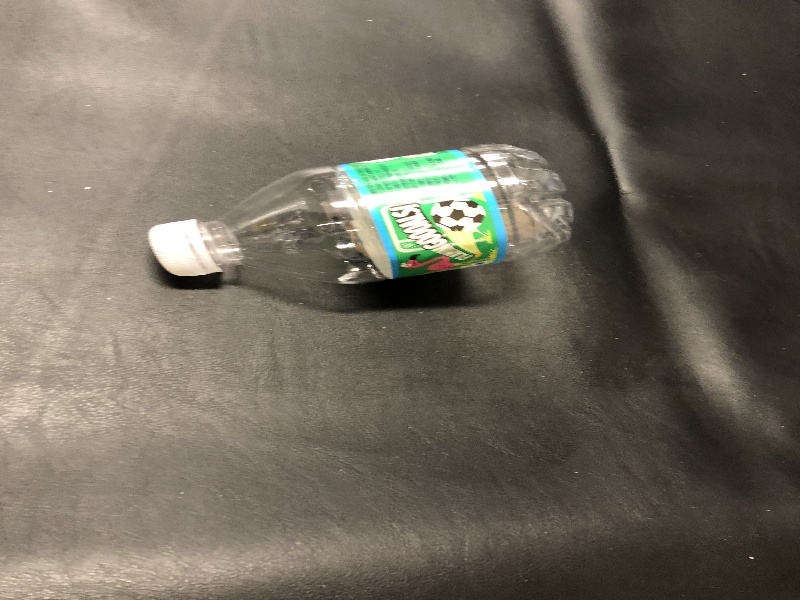plastic: (135, 131, 582, 304)
